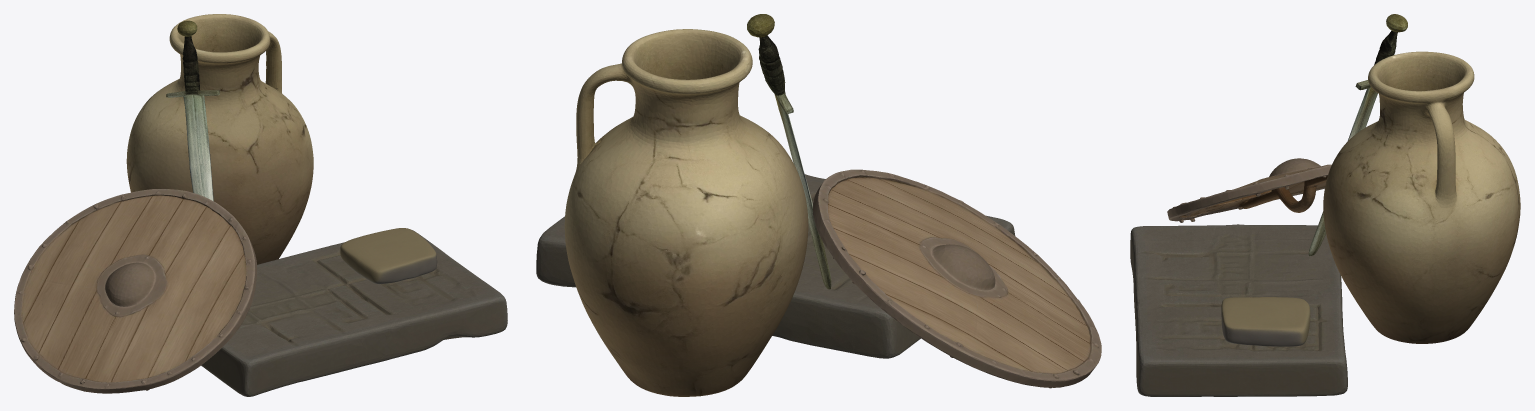
The model's file is phi-scene.glb.
3 renders of one model, left to right at view 1: azimuth 30°, elevation 25°; view 2: azimuth 150°, elevation 25°; view 3: azimuth 270°, elevation 25°, orthographic. The views are drawn at different scales.
Parts seen in each view (by area): view 1: object_02, object_03, object_04, object_00, object_01; view 2: object_04, object_02, object_03, object_01; view 3: object_04, object_03, object_02, object_00, object_01.
Boxes of the visible parts, <box> form: object_02: <box>14,189,256,393</box>; object_03: <box>201,230,507,396</box>; object_04: <box>126,14,313,264</box>; object_00: <box>340,228,437,284</box>; object_01: <box>166,20,219,201</box>; object_04: <box>564,29,808,396</box>; object_02: <box>813,169,1101,388</box>; object_03: <box>536,174,1015,358</box>; object_01: <box>747,14,831,289</box>; object_04: <box>1323,51,1520,343</box>; object_03: <box>1130,224,1347,396</box>; object_02: <box>1167,158,1331,222</box>; object_00: <box>1221,297,1310,346</box>; object_01: <box>1308,14,1407,255</box>.
Size of the model in its own units: 1.02 by 0.6756 by 0.8349.
5 materials, 5 textured.
